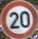20 km speed: (1, 1, 38, 38)
